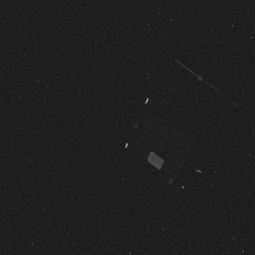proba_3_csc: (126, 50, 245, 200)
